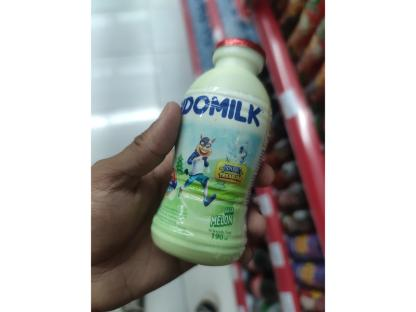Others: (149, 38, 273, 266)
